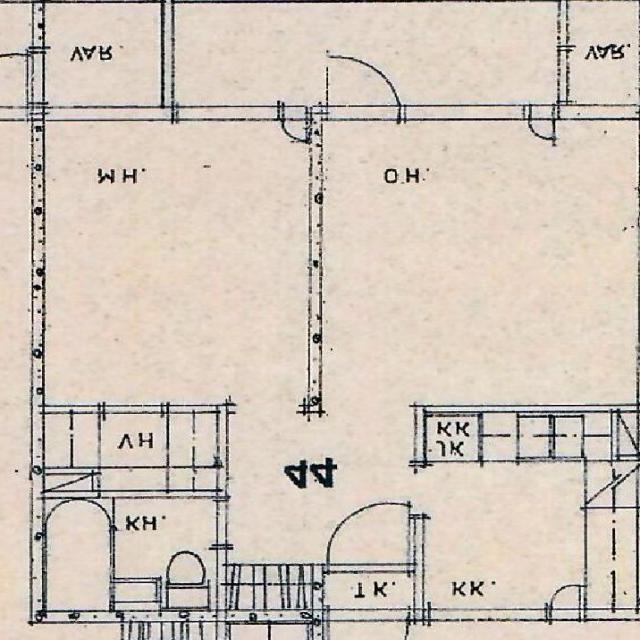door: (327, 495, 409, 572), (328, 42, 400, 119)
